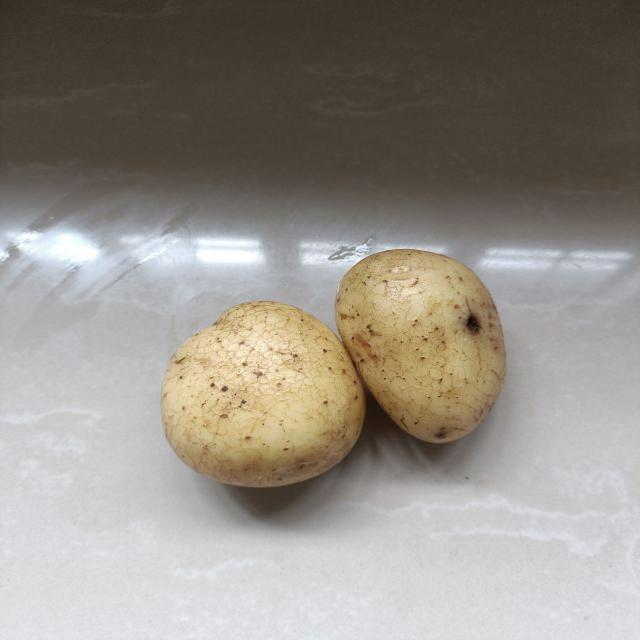potato: (161, 294, 368, 499), (330, 237, 512, 450)
